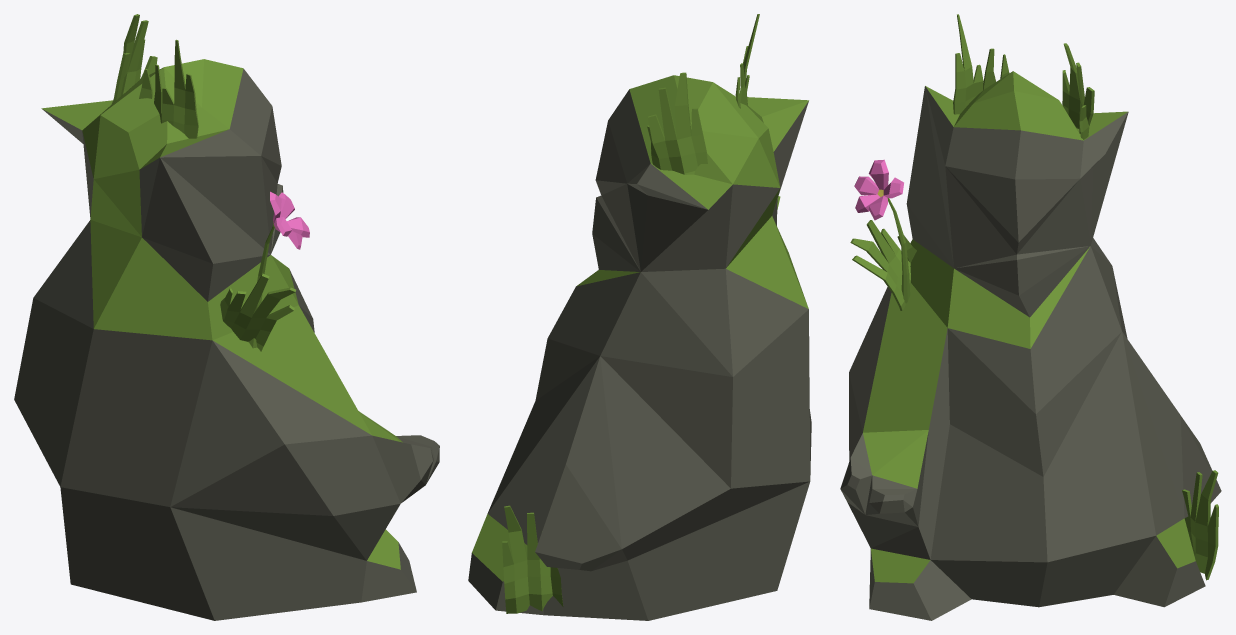
Rendered from Troll_02.fbx.
3 views of the same model, side by side, from view 1: azimuth 30°, elevation 25°; view 2: azimuth 150°, elevation 25°; view 3: azimuth 270°, elevation 25° (orthographic). The views are drawn at different scales.
Visible parts, largest first — view 1: Cube.039; view 2: Cube.039; view 3: Cube.039.
Boxes of the visible parts, <box> form: Cube.039: <box>14,14,439,620</box>; Cube.039: <box>468,14,811,620</box>; Cube.039: <box>840,14,1221,620</box>.
Bounding box in the file's own units: 417 × 730 × 495.
